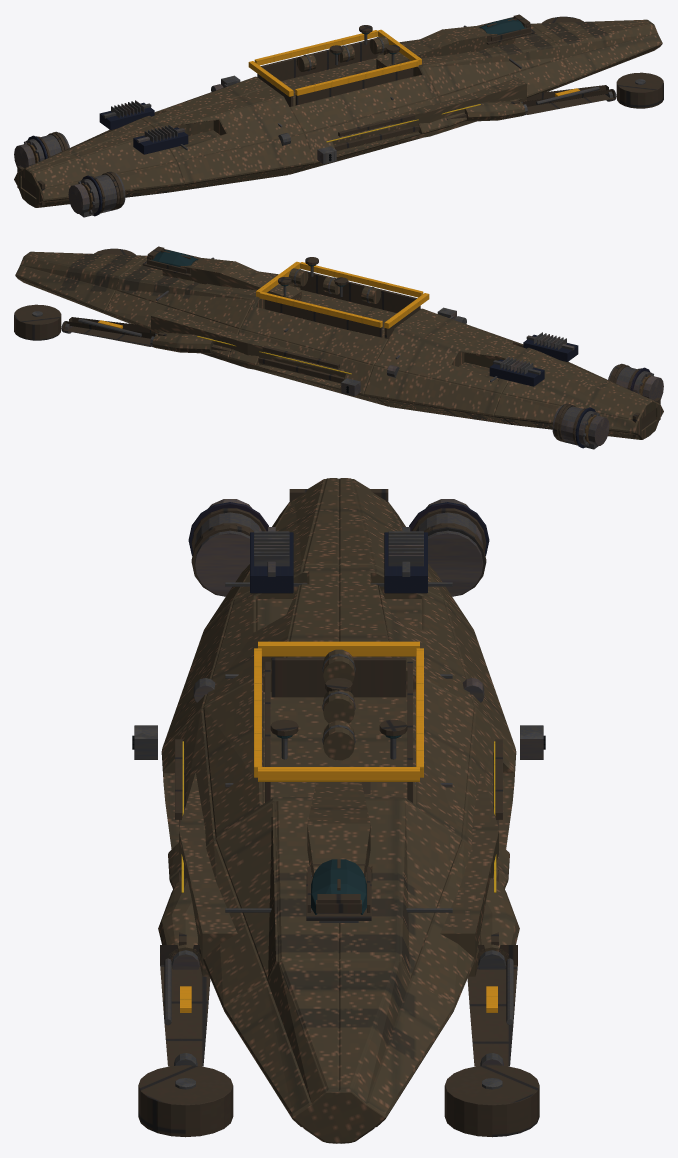
The model's file is salvage_cutter_production_v1_lod1.glb.
The picture shows the model from 3 angles, top to bottom: view 1: azimuth 30°, elevation 25°; view 2: azimuth 150°, elevation 25°; view 3: azimuth 270°, elevation 25°; orthographic projection. The views are drawn at different scales.
Visible parts, largest first — view 1: LOD1_Hull, LOD1_Armor, LOD1_Mechanical, LOD1_Warning, LOD1_Radiator, LOD1_Canopy; view 2: LOD1_Hull, LOD1_Armor, LOD1_Mechanical, LOD1_Warning, LOD1_Radiator, LOD1_Canopy; view 3: LOD1_Hull, LOD1_Armor, LOD1_Mechanical, LOD1_Warning, LOD1_Radiator, LOD1_Canopy.
Part boxes in pixels (x1=…): LOD1_Hull: x1=14, y1=19, x2=662, y2=207; LOD1_Armor: x1=17, y1=14, x2=663, y2=213; LOD1_Mechanical: x1=14, y1=25, x2=645, y2=217; LOD1_Warning: x1=248, y1=29, x2=580, y2=96; LOD1_Radiator: x1=28, y1=102, x2=188, y2=216; LOD1_Canopy: x1=332, y1=18, x2=526, y2=54; LOD1_Hull: x1=15, y1=251, x2=663, y2=439; LOD1_Armor: x1=14, y1=246, x2=660, y2=445; LOD1_Mechanical: x1=32, y1=257, x2=663, y2=449; LOD1_Warning: x1=97, y1=261, x2=429, y2=328; LOD1_Radiator: x1=489, y1=334, x2=649, y2=448; LOD1_Canopy: x1=151, y1=250, x2=345, y2=286; LOD1_Hull: x1=158, y1=478, x2=519, y2=1143; LOD1_Armor: x1=138, y1=489, x2=539, y2=1137; LOD1_Mechanical: x1=134, y1=499, x2=543, y2=1089; LOD1_Warning: x1=180, y1=641, x2=497, y2=1012; LOD1_Radiator: x1=188, y1=502, x2=489, y2=593; LOD1_Canopy: x1=276, y1=735, x2=401, y2=914.
Size of what is drawn, in the model's own units: 14.55 by 2.24 by 4.18.
Materials: 9 (9 with a texture image).
